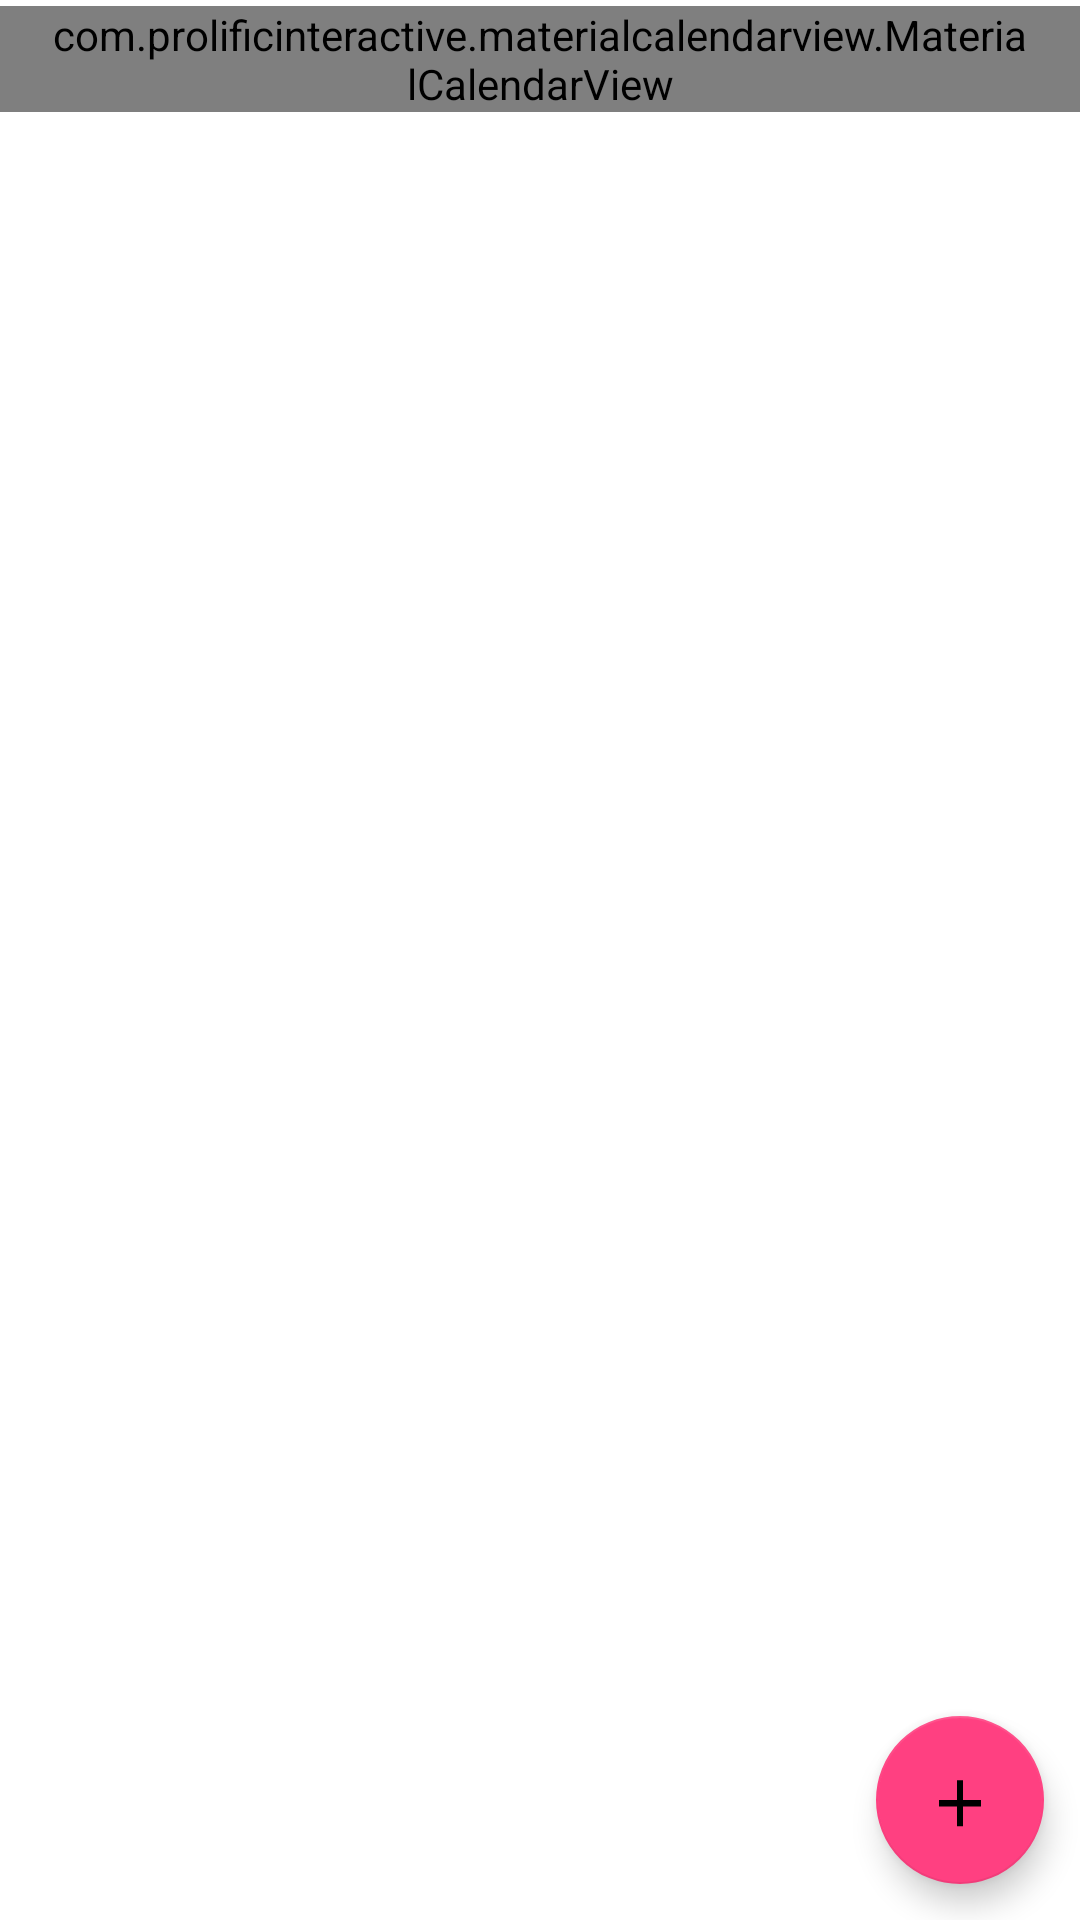

Screen size 1080×1920. Icon name, then its center in pixels as (x,y):
add: (960,1800)
